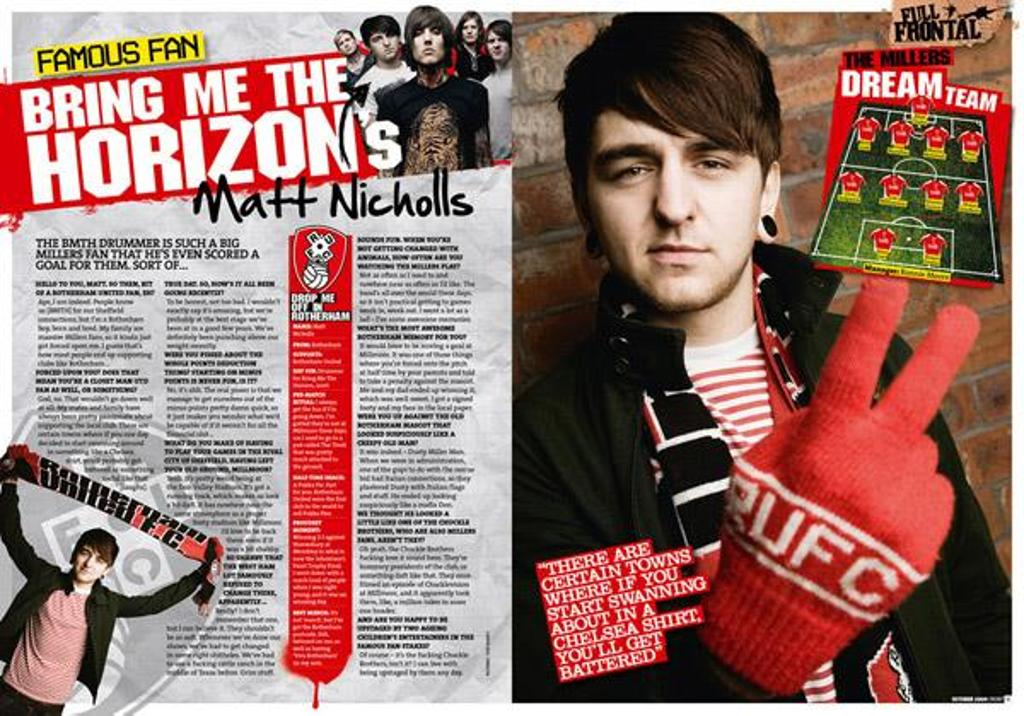face: (586, 84, 761, 311), (409, 18, 444, 64), (74, 543, 106, 581), (369, 26, 398, 60), (486, 29, 508, 60), (337, 34, 357, 54), (462, 18, 478, 42)
